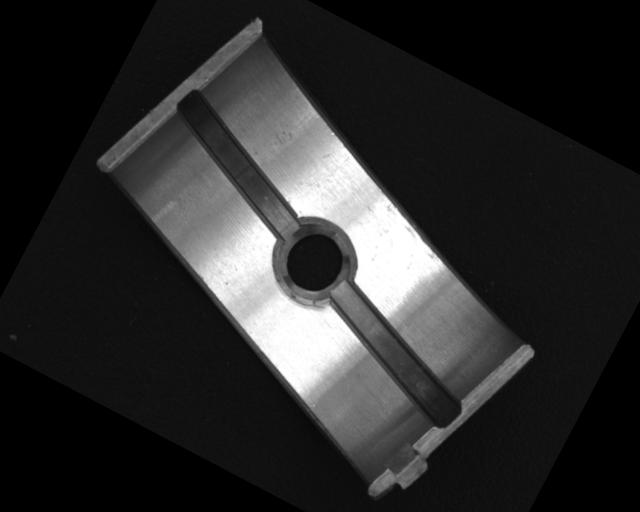gap: (144, 85, 335, 244), (302, 277, 488, 430)
hole: (263, 210, 365, 314)
